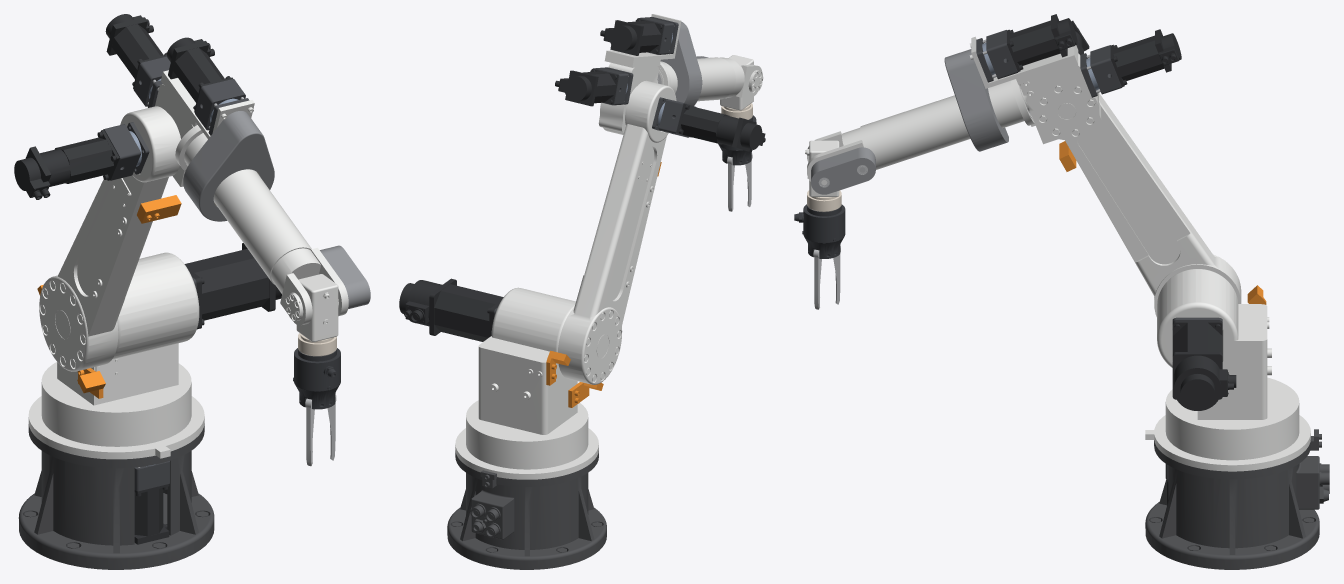
File: robot.glb
3 renders of one model, left to right at view 1: azimuth 30°, elevation 25°; view 2: azimuth 150°, elevation 25°; view 3: azimuth 270°, elevation 25°, orthographic. The views are drawn at different scales.
Visible parts, largest first — view 1: shoulder_v2-1, base_v2-1, upper_arm_v2-1, j4_tube-1, j4_belt_case-1, pg34_gearbox_50to1-1 pg34_motor_nema34_brake-1, pg23g50_gearbox_50to1-1 pg23g50_motor_nema23_brake-1, wrist_roll_v2-1, forearm_v2-1, pg23_gearbox_10to1-2 pg23_motor_nema23-1, pg23_gearbox_10to1-3 pg23_motor_nema23-1, wrist_pitch_v2-1 (+12 smaller); view 2: shoulder_v2-1, upper_arm_v2-1, base_v2-1, pg34_gearbox_50to1-1 pg34_motor_nema34_brake-1, pg23g50_gearbox_50to1-1 pg23g50_motor_nema23_brake-1, forearm_v2-1, pg23_gearbox_10to1-3 pg23_motor_nema23-1, pg23_gearbox_10to1-2 pg23_motor_nema23-1, j4_belt_case-1, j4_tube-1, wrist_roll_v2-1, j2_stops_v2-1 (+4 smaller); view 3: shoulder_v2-1, base_v2-1, upper_arm_v2-1, forearm_v2-1, j4_tube-1, pg34_gearbox_50to1-1 pg34_motor_nema34_brake-1, j4_belt_case-1, pg23_gearbox_10to1-3 pg23_motor_nema23-1, pg23_gearbox_10to1-2 pg23_motor_nema23-1, j5_belt_case-1, gripper_body_v2-1, pg23_gearbox_10to1-2 pg23_adapter_in-1 (+2 smaller).
Part boxes in pixels (<box>): shoulder_v2-1: <box>28,252,204,459</box>; base_v2-1: <box>18,423,214,569</box>; upper_arm_v2-1: <box>39,106,180,371</box>; j4_tube-1: <box>184,133,311,284</box>; j4_belt_case-1: <box>183,111,274,221</box>; pg34_gearbox_50to1-1 pg34_motor_nema34_brake-1: <box>184,243,281,329</box>; pg23g50_gearbox_50to1-1 pg23g50_motor_nema23_brake-1: <box>14,129,119,199</box>; wrist_roll_v2-1: <box>271,247,348,325</box>; forearm_v2-1: <box>155,70,254,186</box>; pg23_gearbox_10to1-2 pg23_motor_nema23-1: <box>167,37,232,112</box>; pg23_gearbox_10to1-3 pg23_motor_nema23-1: <box>105,14,167,88</box>; wrist_pitch_v2-1: <box>296,274,338,341</box>; shoulder_v2-1: <box>455,287,598,479</box>; upper_arm_v2-1: <box>558,80,676,384</box>; base_v2-1: <box>447,450,606,569</box>; pg34_gearbox_50to1-1 pg34_motor_nema34_brake-1: <box>399,278,503,341</box>; pg23g50_gearbox_50to1-1 pg23g50_motor_nema23_brake-1: <box>676,104,765,151</box>; forearm_v2-1: <box>598,14,681,134</box>; pg23_gearbox_10to1-3 pg23_motor_nema23-1: <box>555,69,618,106</box>; pg23_gearbox_10to1-2 pg23_motor_nema23-1: <box>600,18,663,55</box>; j4_belt_case-1: <box>660,21,702,105</box>; j4_tube-1: <box>657,57,735,101</box>; wrist_roll_v2-1: <box>720,57,763,98</box>; j2_stops_v2-1: <box>546,350,603,407</box>; shoulder_v2-1: <box>1145,269,1310,471</box>; base_v2-1: <box>1145,429,1329,569</box>; upper_arm_v2-1: <box>1065,89,1241,316</box>; forearm_v2-1: <box>969,36,1101,144</box>; j4_tube-1: <box>860,81,1033,169</box>; pg34_gearbox_50to1-1 pg34_motor_nema34_brake-1: <box>1172,320,1236,410</box>; j4_belt_case-1: <box>944,49,1008,151</box>; pg23_gearbox_10to1-3 pg23_motor_nema23-1: <box>1110,29,1181,86</box>; pg23_gearbox_10to1-2 pg23_motor_nema23-1: <box>1007,14,1077,71</box>; j5_belt_case-1: <box>811,147,875,194</box>; gripper_body_v2-1: <box>794,204,845,242</box>; pg23_gearbox_10to1-2 pg23_adapter_in-1: <box>986,30,1018,79</box>.
Size of the model in its own units: 627 by 955 by 921.
